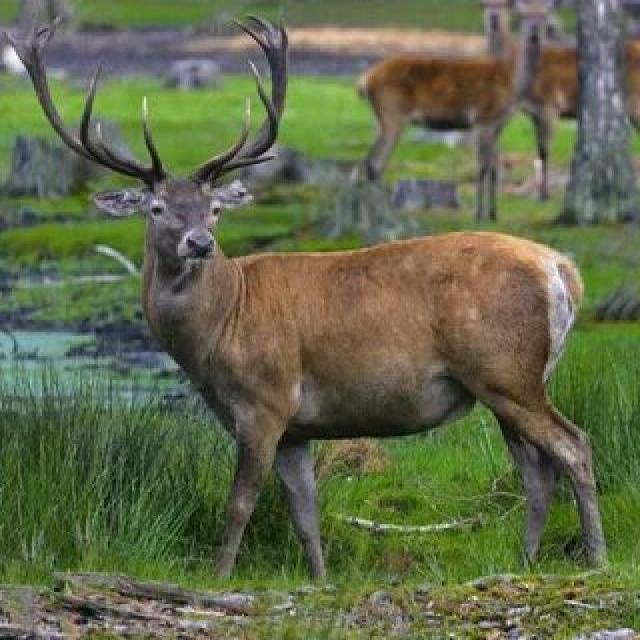deer: (91, 108, 582, 549)
